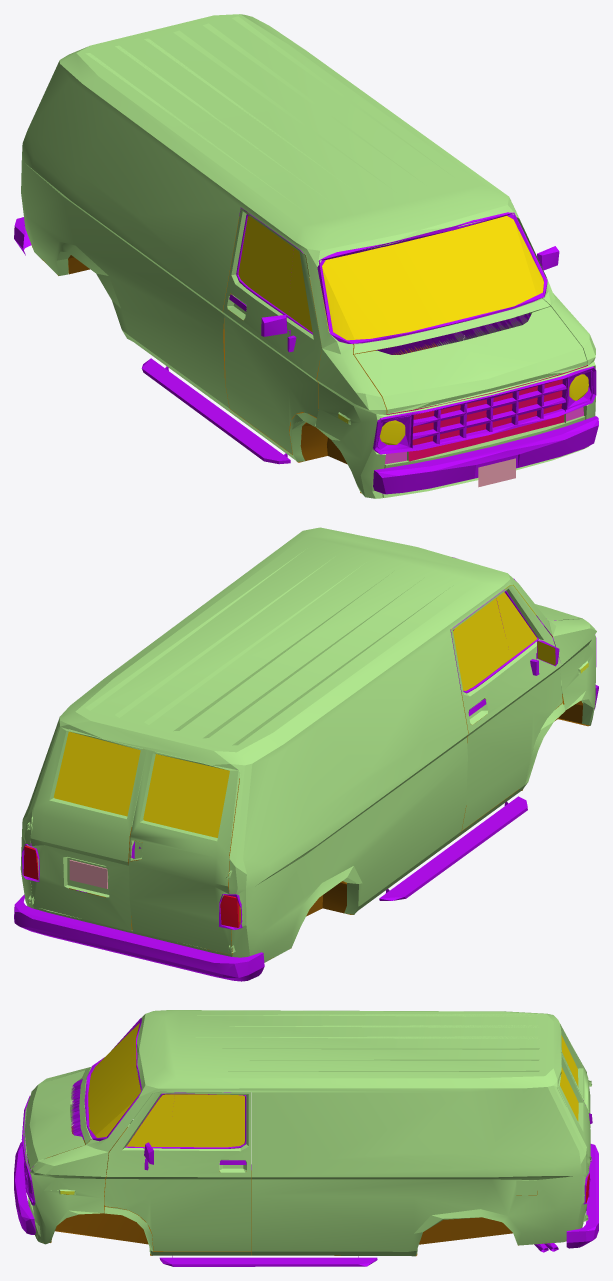
Rendered from Van_Optimal.fbx.
3 renders of one model, top to bottom at view 1: azimuth 30°, elevation 25°; view 2: azimuth 150°, elevation 25°; view 3: azimuth 270°, elevation 25°, orthographic. The views are drawn at different scales.
Parts seen in each view (by area): view 1: Van; view 2: Van; view 3: Van.
Boxes of the visible parts, box(x1,y1,x2,y2) form: Van: box(14, 14, 598, 498); Van: box(14, 527, 598, 981); Van: box(14, 1010, 598, 1266).
Bounding box in the file's own units: 378 × 277 × 833.
